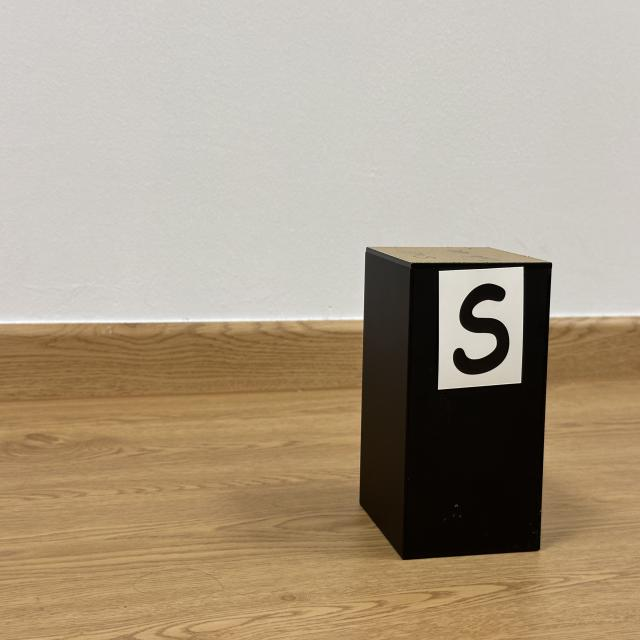S: (452, 283, 509, 375)
